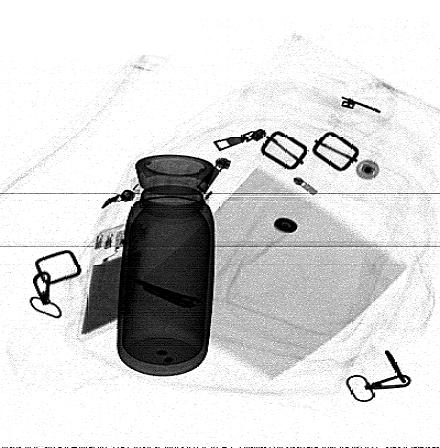Powerbank: (76, 222, 145, 341)
